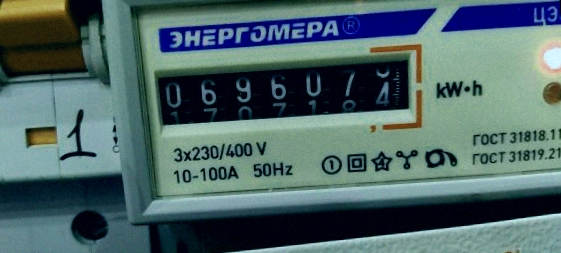0: (161, 78, 184, 109), (303, 68, 324, 98)
4: (371, 78, 392, 108)
6: (267, 70, 289, 102), (197, 75, 218, 106)
7: (338, 64, 358, 96)
9: (232, 73, 254, 103)
screen: (142, 36, 430, 146)
